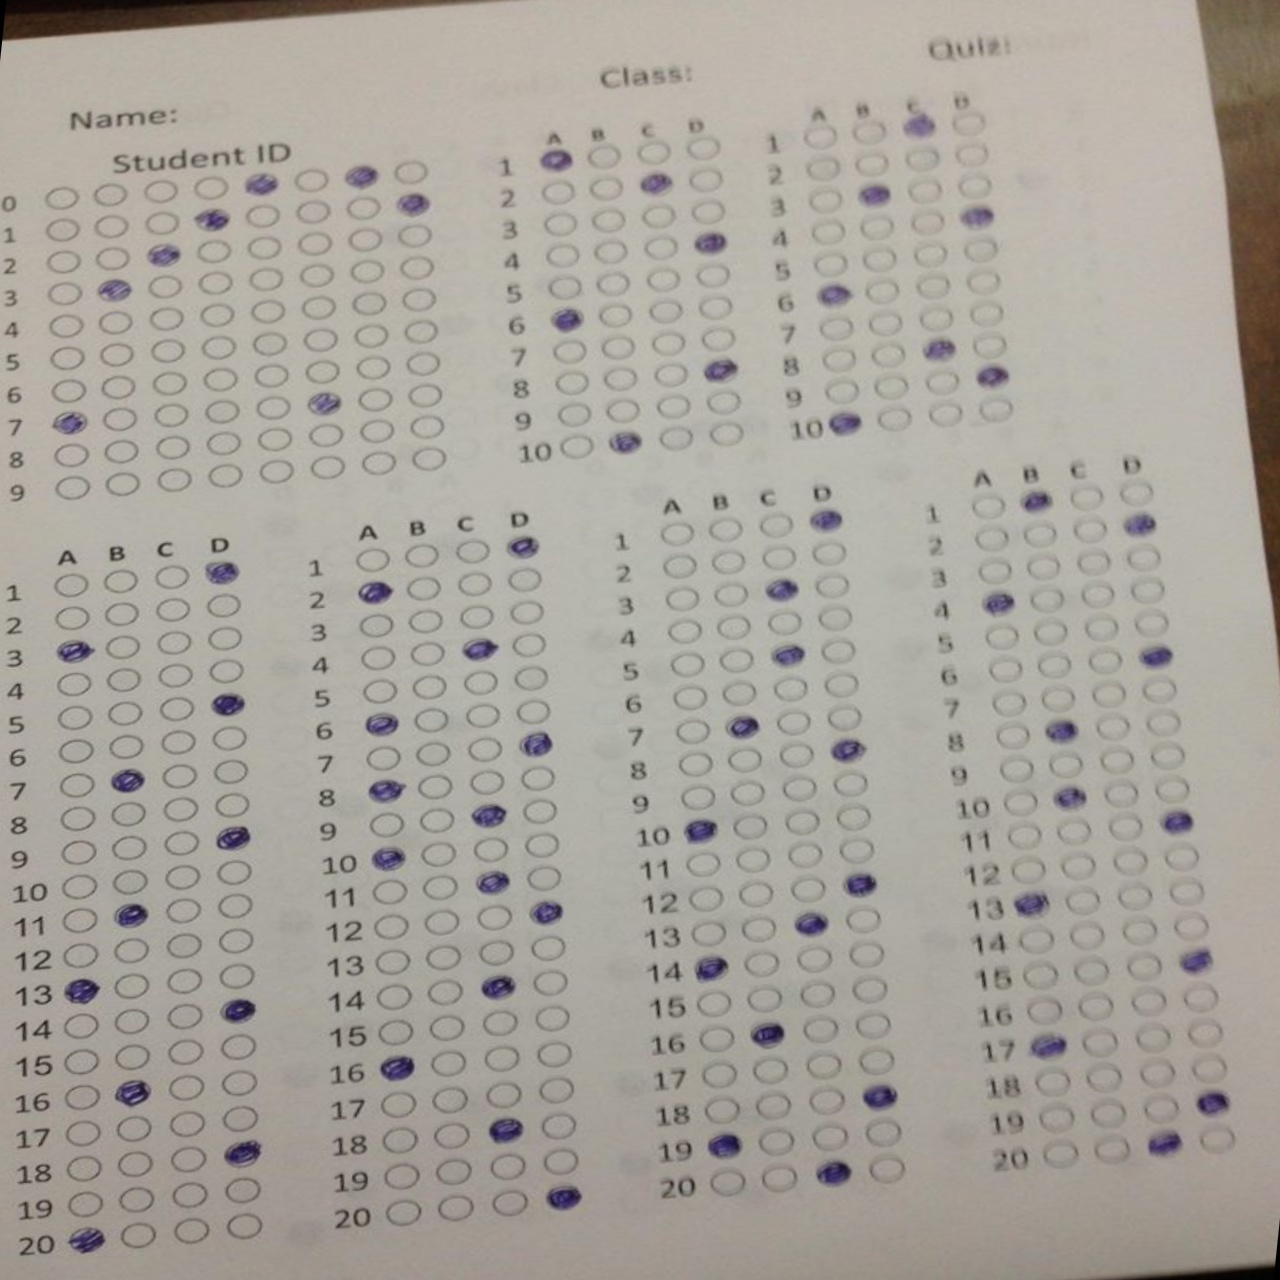not-c: (1183, 1017, 1228, 1051), (220, 1211, 271, 1241), (108, 1112, 156, 1143), (1032, 1067, 1077, 1098), (1036, 1141, 1085, 1170), (1121, 951, 1167, 981), (1194, 1126, 1242, 1156), (1135, 1022, 1176, 1055), (362, 810, 408, 839), (1091, 1133, 1137, 1163), (165, 1035, 207, 1067), (57, 1155, 107, 1182), (486, 1151, 530, 1182), (784, 840, 828, 871), (1143, 1095, 1186, 1125), (527, 969, 574, 998), (956, 237, 1003, 265), (985, 690, 1032, 719), (424, 1014, 469, 1043), (1131, 611, 1176, 640), (1143, 709, 1187, 738), (423, 942, 464, 974), (159, 933, 207, 960), (1078, 1030, 1126, 1057), (163, 1075, 209, 1103), (433, 1155, 475, 1185), (813, 605, 859, 633), (736, 915, 782, 944), (798, 1014, 842, 1043), (1177, 985, 1220, 1014), (166, 1148, 213, 1175), (858, 282, 905, 309), (1068, 956, 1115, 983), (218, 1068, 263, 1096), (1024, 998, 1069, 1026), (520, 831, 561, 862), (103, 699, 145, 728), (757, 1164, 799, 1193), (591, 273, 636, 300), (855, 245, 900, 272), (665, 651, 710, 678), (847, 978, 893, 1005), (1136, 1062, 1182, 1089), (63, 1192, 107, 1220), (481, 1083, 524, 1111), (735, 880, 778, 908), (851, 1013, 894, 1041), (377, 1199, 424, 1225), (424, 978, 465, 1007), (1092, 716, 1133, 745), (388, 158, 433, 185), (297, 294, 341, 321), (54, 840, 98, 867), (665, 685, 709, 712), (749, 1092, 794, 1119), (1054, 852, 1098, 879), (1074, 994, 1118, 1021), (63, 1119, 105, 1148), (168, 1216, 210, 1244), (530, 1006, 572, 1034), (540, 1148, 583, 1176), (744, 986, 787, 1014), (853, 1047, 896, 1075), (809, 1087, 846, 1118), (354, 645, 400, 670), (749, 1057, 795, 1083), (207, 726, 251, 753), (210, 760, 253, 787), (216, 964, 259, 990), (549, 338, 592, 365), (377, 1164, 421, 1191), (154, 401, 193, 430), (61, 941, 101, 971), (63, 1046, 103, 1075), (806, 186, 846, 216), (159, 764, 200, 792), (602, 397, 644, 425), (374, 983, 415, 1012), (537, 1075, 578, 1103), (377, 1128, 418, 1156), (788, 876, 829, 904), (406, 444, 450, 470), (463, 701, 508, 727), (110, 1007, 152, 1034), (165, 1003, 207, 1030), (411, 741, 454, 768), (477, 1012, 519, 1039), (908, 207, 951, 234), (1137, 678, 1179, 704), (1051, 819, 1094, 846), (1115, 884, 1157, 911), (1085, 1065, 1128, 1092), (849, 939, 887, 968), (985, 622, 1023, 652), (49, 477, 97, 501), (57, 1085, 103, 1110), (163, 1112, 209, 1137), (554, 435, 600, 459), (813, 640, 859, 665), (95, 309, 135, 338), (110, 799, 150, 828), (161, 796, 200, 824), (212, 791, 252, 819), (118, 1187, 158, 1216), (539, 179, 579, 207), (457, 604, 497, 632), (968, 334, 1008, 362), (658, 520, 697, 549), (652, 365, 695, 390), (416, 874, 459, 900), (427, 1122, 470, 1148), (966, 304, 1009, 329), (722, 745, 765, 771), (863, 1122, 906, 1148), (467, 735, 503, 765), (102, 472, 143, 499), (219, 1177, 260, 1204), (508, 601, 549, 628), (459, 670, 501, 697), (467, 771, 508, 798), (427, 1051, 468, 1078), (486, 1189, 527, 1216), (824, 672, 865, 699), (842, 908, 883, 935), (864, 1156, 905, 1183), (1071, 516, 1112, 543), (1041, 686, 1082, 713), (1046, 753, 1087, 779), (204, 459, 241, 489), (831, 770, 869, 799), (305, 423, 349, 448), (151, 467, 196, 491), (510, 701, 554, 726), (799, 155, 844, 179), (755, 1130, 799, 1155), (1121, 547, 1165, 572), (995, 790, 1040, 815), (355, 450, 397, 476), (59, 772, 101, 798), (365, 743, 403, 771), (533, 1041, 572, 1069), (967, 271, 1009, 297), (772, 712, 815, 737), (696, 1063, 738, 1089), (988, 721, 1030, 747), (1130, 988, 1172, 1014), (145, 306, 185, 333), (47, 377, 87, 404), (114, 1152, 154, 1179), (171, 1180, 211, 1207), (635, 139, 675, 166), (641, 204, 681, 231), (652, 331, 692, 358), (404, 576, 444, 602), (431, 1087, 471, 1114), (917, 306, 956, 333), (823, 346, 863, 373), (712, 583, 751, 610), (1088, 1101, 1128, 1128), (952, 176, 998, 199), (404, 610, 448, 634), (818, 381, 862, 406), (658, 554, 701, 579), (696, 1027, 740, 1051), (1126, 577, 1170, 601), (375, 948, 411, 978), (687, 884, 723, 913), (98, 408, 139, 434), (154, 663, 195, 689), (694, 264, 735, 290), (505, 568, 546, 594), (377, 1092, 418, 1118), (922, 401, 964, 427), (683, 853, 724, 879), (806, 1124, 847, 1150), (156, 629, 193, 658), (206, 625, 244, 653), (1172, 913, 1210, 941), (189, 177, 233, 200), (57, 910, 102, 933), (1064, 486, 1109, 510), (994, 758, 1039, 782), (406, 350, 444, 377), (165, 968, 204, 995), (222, 1107, 260, 1133), (475, 903, 513, 930), (660, 585, 699, 612), (734, 846, 772, 873), (403, 382, 445, 407), (49, 605, 91, 629), (451, 539, 493, 564), (417, 843, 459, 867), (924, 370, 966, 395), (1148, 745, 1190, 770), (411, 413, 447, 442), (96, 374, 136, 400), (202, 366, 241, 392), (155, 598, 195, 624), (206, 659, 246, 685), (54, 704, 94, 730), (706, 392, 745, 417), (362, 678, 402, 703), (481, 1046, 520, 1071), (538, 1115, 578, 1141), (435, 1194, 475, 1220), (853, 118, 893, 144), (771, 676, 811, 702), (782, 778, 822, 804), (689, 922, 729, 948), (743, 952, 783, 978), (148, 372, 191, 395), (253, 428, 297, 451), (104, 601, 142, 628), (111, 937, 149, 964), (63, 1012, 101, 1039), (218, 1035, 256, 1062), (692, 200, 729, 227), (513, 665, 551, 692), (870, 345, 907, 372), (730, 812, 768, 839), (799, 982, 837, 1009), (292, 200, 333, 225), (295, 231, 336, 256), (54, 673, 95, 697), (57, 740, 98, 764), (105, 735, 147, 760), (588, 209, 629, 233), (658, 425, 699, 450), (524, 867, 565, 892), (375, 1021, 416, 1046), (806, 543, 847, 567), (712, 617, 753, 641), (670, 719, 712, 743), (836, 839, 877, 864), (694, 990, 735, 1015), (704, 1171, 745, 1196), (1020, 964, 1061, 988), (250, 300, 288, 326), (855, 150, 893, 176), (156, 731, 200, 754), (872, 410, 917, 433), (138, 181, 181, 204), (349, 293, 392, 316), (213, 862, 256, 885), (544, 277, 586, 300), (799, 124, 842, 148), (811, 576, 853, 599), (1034, 654, 1076, 678), (91, 183, 131, 207), (147, 275, 186, 300), (353, 325, 393, 349), (203, 399, 243, 423), (511, 633, 551, 658), (976, 397, 1016, 422), (663, 618, 703, 642), (833, 806, 873, 831), (973, 526, 1013, 551), (1083, 648, 1123, 673), (1101, 782, 1141, 806), (804, 1051, 840, 1078), (1155, 777, 1191, 804), (1167, 880, 1204, 907), (247, 268, 285, 294), (111, 869, 149, 894), (686, 136, 723, 162), (642, 268, 680, 294), (699, 294, 736, 320), (355, 547, 393, 573), (783, 810, 821, 836), (1042, 1107, 1080, 1132), (42, 315, 86, 338), (47, 574, 90, 597), (110, 974, 151, 998), (452, 573, 493, 597), (407, 644, 448, 667), (413, 776, 454, 799), (369, 914, 410, 938), (899, 147, 940, 170), (819, 316, 860, 340), (700, 1099, 741, 1123), (1119, 920, 1160, 944), (1189, 1058, 1230, 1082), (47, 346, 86, 370), (254, 395, 293, 420), (162, 831, 200, 856), (218, 930, 257, 954), (113, 1043, 151, 1068), (706, 423, 744, 448), (402, 544, 441, 568), (410, 707, 449, 731), (871, 377, 910, 402), (757, 515, 796, 539), (1009, 858, 1048, 883), (302, 326, 338, 353), (826, 704, 862, 731), (1023, 522, 1058, 549), (1071, 920, 1107, 947), (292, 171, 334, 193), (110, 837, 152, 859), (1159, 846, 1201, 869), (299, 264, 335, 290), (155, 563, 191, 588), (195, 239, 234, 263), (96, 343, 136, 367), (302, 362, 342, 386), (52, 443, 91, 467), (205, 431, 245, 455), (159, 697, 199, 721), (61, 874, 101, 898), (159, 865, 199, 888), (544, 245, 584, 268), (593, 240, 633, 264), (409, 675, 449, 699), (706, 519, 745, 543), (674, 751, 714, 775), (1005, 824, 1044, 847), (1017, 927, 1057, 951), (245, 236, 282, 260), (361, 418, 399, 443), (102, 568, 139, 593), (164, 898, 202, 922), (586, 176, 624, 200), (600, 336, 638, 361), (417, 810, 455, 835), (949, 109, 987, 134), (717, 648, 755, 673), (731, 782, 769, 806), (520, 764, 554, 791), (103, 669, 144, 692), (707, 551, 748, 573), (765, 612, 806, 634), (794, 949, 835, 972), (1117, 482, 1158, 504), (347, 197, 386, 220), (348, 229, 383, 254), (48, 280, 83, 306), (198, 304, 237, 327), (687, 168, 726, 191), (647, 300, 686, 324), (356, 613, 395, 636), (721, 681, 760, 704), (1081, 585, 1119, 608), (1085, 615, 1121, 641), (254, 365, 291, 389), (121, 1224, 157, 1248), (557, 402, 593, 427), (869, 313, 905, 338), (583, 147, 625, 168), (1089, 685, 1131, 706), (254, 462, 294, 484), (552, 372, 592, 394), (152, 436, 190, 459), (307, 456, 345, 479), (205, 594, 243, 618), (104, 634, 142, 658), (60, 808, 97, 831), (424, 911, 462, 934), (953, 143, 990, 166), (912, 244, 949, 267), (1076, 551, 1110, 577), (45, 217, 80, 241), (350, 263, 392, 284), (703, 326, 738, 350), (812, 251, 847, 275), (774, 745, 815, 767), (243, 205, 281, 227), (653, 395, 692, 417), (1024, 588, 1063, 611), (1109, 850, 1148, 872), (199, 273, 236, 297), (403, 288, 440, 312), (358, 389, 394, 413), (600, 305, 636, 328), (973, 495, 1006, 520), (147, 342, 189, 362), (215, 896, 254, 917), (680, 787, 720, 808), (1065, 892, 1105, 913), (401, 257, 435, 281), (253, 333, 287, 358), (604, 369, 641, 392), (479, 942, 517, 965), (1099, 750, 1137, 772), (45, 185, 80, 209), (399, 225, 434, 248), (373, 879, 408, 903), (983, 661, 1024, 681), (1033, 621, 1071, 642), (104, 440, 141, 462), (406, 320, 440, 343), (530, 938, 564, 961), (907, 181, 941, 204), (96, 248, 134, 270), (1024, 559, 1062, 580), (1107, 819, 1144, 840), (143, 213, 178, 236), (524, 799, 559, 822), (472, 839, 508, 862), (914, 275, 949, 298), (94, 215, 127, 238), (758, 547, 795, 568), (543, 215, 580, 234), (202, 338, 237, 359), (645, 239, 680, 260), (858, 219, 894, 239), (813, 224, 847, 245), (976, 563, 1012, 583), (46, 252, 79, 273), (356, 358, 390, 377)
taken-c: (855, 1078, 908, 1118), (810, 1155, 858, 1194), (105, 1074, 157, 1110), (366, 845, 417, 877), (1153, 810, 1206, 840), (699, 354, 748, 386), (215, 1139, 270, 1167), (699, 1133, 751, 1163), (61, 1226, 111, 1257), (372, 1054, 423, 1083), (361, 775, 407, 808), (1012, 888, 1058, 920), (526, 896, 570, 930), (1053, 782, 1096, 816), (1039, 719, 1087, 749), (486, 1115, 531, 1148), (105, 900, 155, 930), (48, 636, 98, 665), (914, 336, 965, 365), (542, 1185, 591, 1213), (787, 912, 833, 941), (683, 956, 730, 986), (358, 712, 401, 743), (1024, 1030, 1068, 1062), (474, 972, 518, 1002), (543, 305, 591, 333), (745, 1021, 794, 1049), (812, 281, 860, 309), (1142, 1129, 1184, 1160), (468, 802, 511, 832), (199, 560, 246, 588), (688, 229, 735, 257), (1175, 947, 1214, 980), (1130, 646, 1180, 672), (804, 508, 852, 535), (972, 365, 1017, 393), (973, 588, 1019, 617), (139, 240, 183, 270), (764, 573, 808, 602), (1191, 1089, 1234, 1118), (105, 768, 154, 794), (502, 531, 544, 560), (218, 999, 263, 1026), (474, 871, 516, 899), (205, 692, 248, 719), (340, 159, 380, 189), (838, 873, 878, 903), (516, 734, 560, 760), (458, 636, 501, 663), (720, 715, 768, 738), (304, 390, 343, 418), (1117, 512, 1157, 540), (211, 828, 254, 853), (636, 171, 680, 197), (605, 430, 648, 456), (674, 821, 717, 846), (241, 172, 282, 199), (62, 978, 100, 1007), (354, 580, 399, 605), (768, 642, 808, 669), (856, 181, 896, 207), (824, 411, 865, 437), (956, 204, 994, 232), (900, 114, 938, 139), (188, 207, 233, 229), (91, 278, 132, 301), (50, 411, 91, 435), (825, 737, 866, 761), (539, 148, 578, 172), (395, 192, 435, 216), (1019, 490, 1056, 515)
